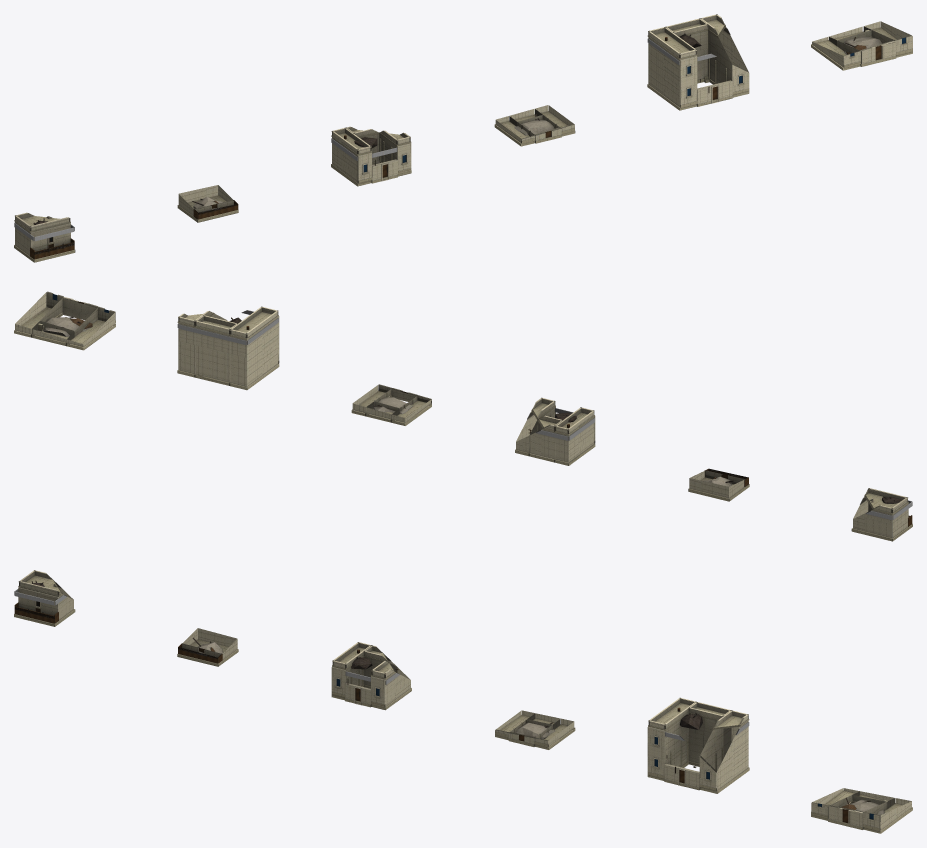
File: classical-israelite-houses-damage.glb
The picture shows the model from 3 angles, top to bottom: view 1: azimuth 30°, elevation 25°; view 2: azimuth 150°, elevation 25°; view 3: azimuth 330°, elevation 25°; orthographic projection.
Parts seen in each view (by area): view 1: LOD0.004, LOD0.002, LOD0.005, LOD0, LOD0.003, LOD0.001; view 2: LOD0.004, LOD0.002, LOD0.005, LOD0, LOD0.003, LOD0.001; view 3: LOD0.004, LOD0.002, LOD0.005, LOD0, LOD0.003, LOD0.001.
Part boxes in pixels (box(x1,y1,x2,y2)): LOD0.004: box(647, 14, 749, 110); LOD0.002: box(331, 126, 411, 186); LOD0.005: box(811, 21, 912, 70); LOD0: box(14, 212, 75, 262); LOD0.003: box(494, 105, 575, 146); LOD0.001: box(177, 185, 238, 222); LOD0.004: box(177, 306, 279, 390); LOD0.002: box(515, 397, 595, 465); LOD0.005: box(14, 291, 115, 350); LOD0: box(851, 488, 912, 541); LOD0.003: box(351, 384, 431, 425); LOD0.001: box(688, 468, 749, 501); LOD0.004: box(647, 697, 749, 793); LOD0.002: box(331, 642, 411, 710); LOD0.005: box(811, 788, 912, 833); LOD0: box(14, 570, 75, 626); LOD0.003: box(495, 710, 575, 749); LOD0.001: box(177, 628, 238, 666).
Size of what is drawn, in the model's own units: 16.02 by 0.9907 by 1.05.
2 materials, 2 textured.
